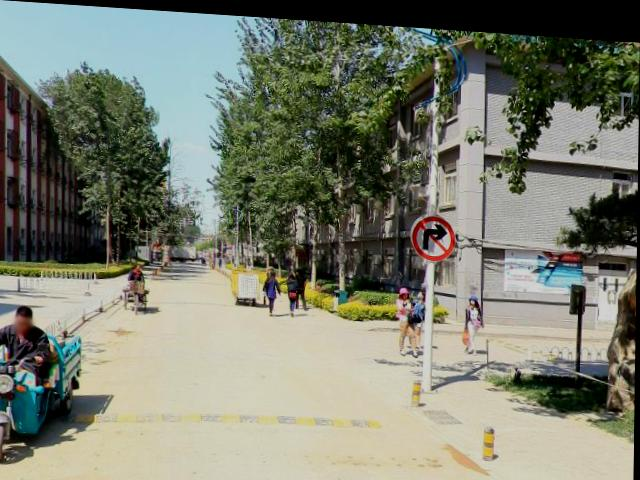not_turn_right: (412, 202, 457, 262)
